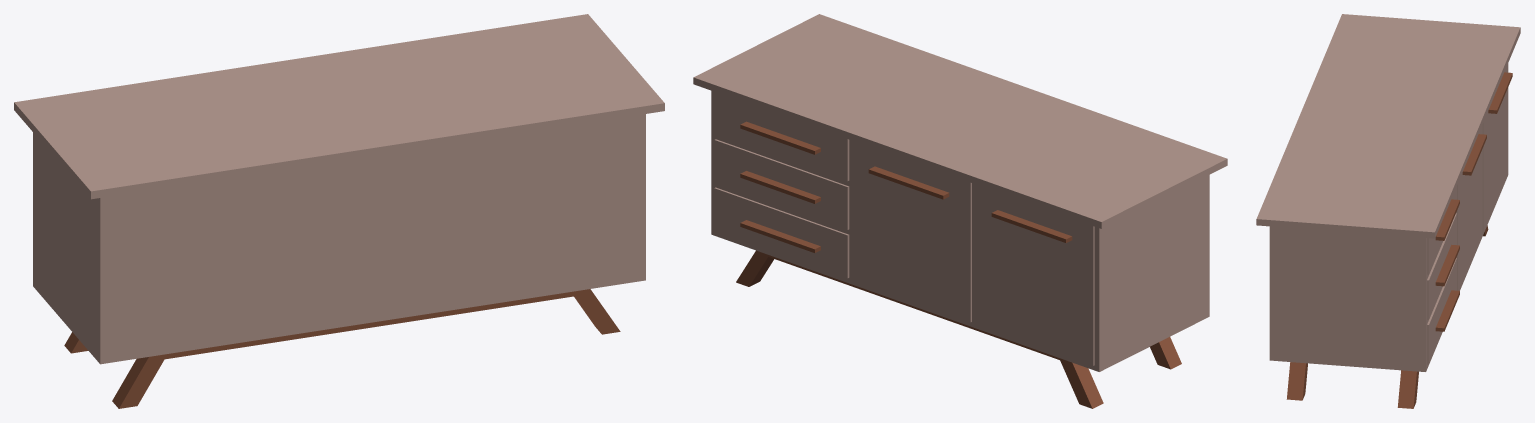
The model's file is credenza.glb.
The picture shows the model from 3 angles, left to right: view 1: azimuth 30°, elevation 25°; view 2: azimuth 150°, elevation 25°; view 3: azimuth 270°, elevation 25°; orthographic projection. The views are drawn at different scales.
Visible parts, largest first — view 1: node-0; view 2: node-0; view 3: node-0.
Boxes of the visible parts, x1,y1,x2,y2 form: node-0: (14,14,664,408); node-0: (693,14,1227,408); node-0: (1256,14,1520,408).
Bounding box in the file's own units: 924089 × 375872 × 472128.
